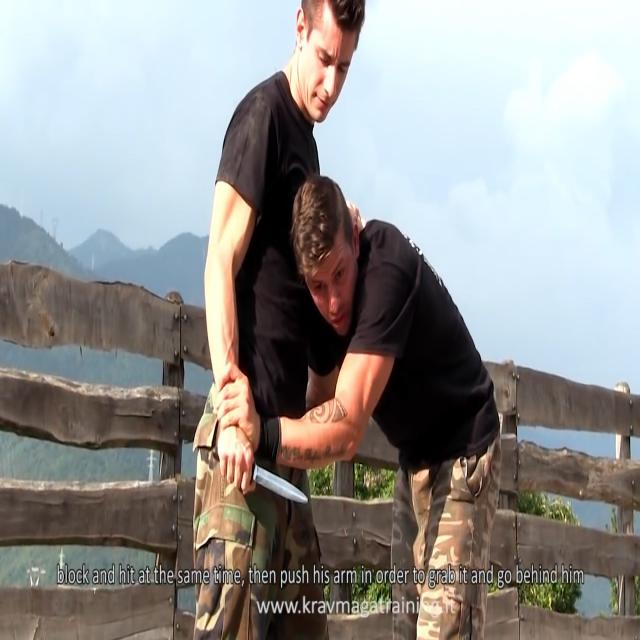knife: (250, 464, 313, 510)
